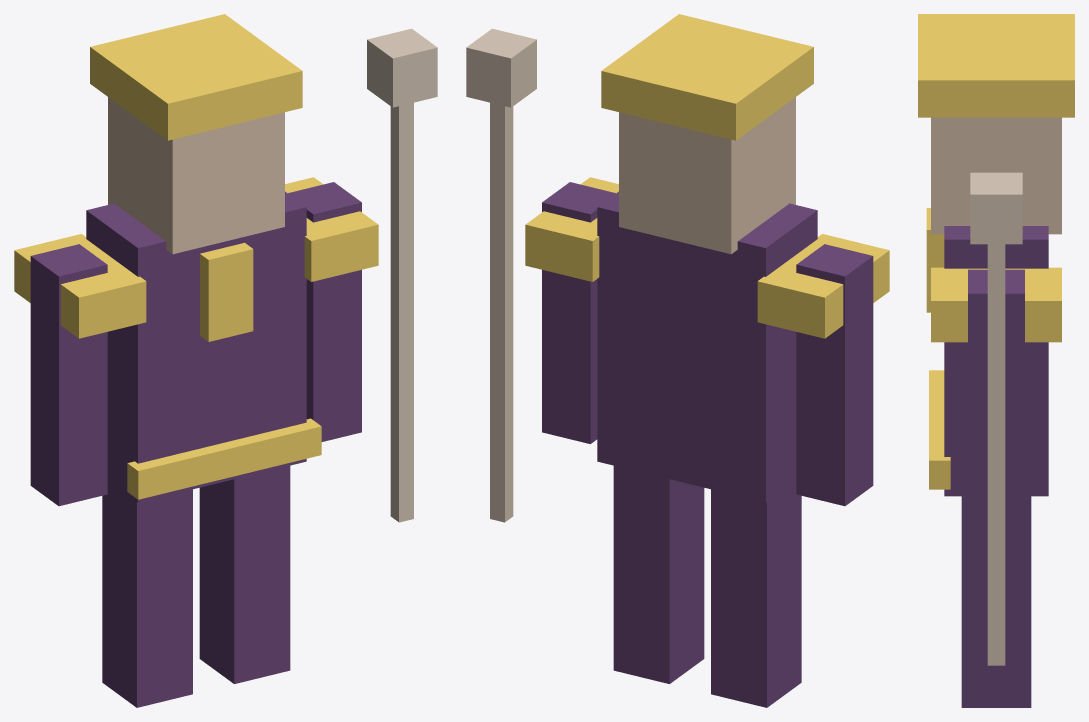
The model's file is 16_sable_gantryn_herald_at_blank_load.glb.
3 renders of one model, left to right at view 1: azimuth 30°, elevation 25°; view 2: azimuth 150°, elevation 25°; view 3: azimuth 270°, elevation 25°, orthographic.
Visible parts, largest first — view 1: Sable Gantryn, Herald at Blank-Load; view 2: Sable Gantryn, Herald at Blank-Load; view 3: Sable Gantryn, Herald at Blank-Load.
Boxes of the visible parts, box(x1,y1,x2,y2) form: Sable Gantryn, Herald at Blank-Load: box(14, 14, 437, 707); Sable Gantryn, Herald at Blank-Load: box(466, 14, 889, 707); Sable Gantryn, Herald at Blank-Load: box(918, 14, 1074, 707).
Size of the model in its own units: 1.08 by 1.68 by 0.3837.
